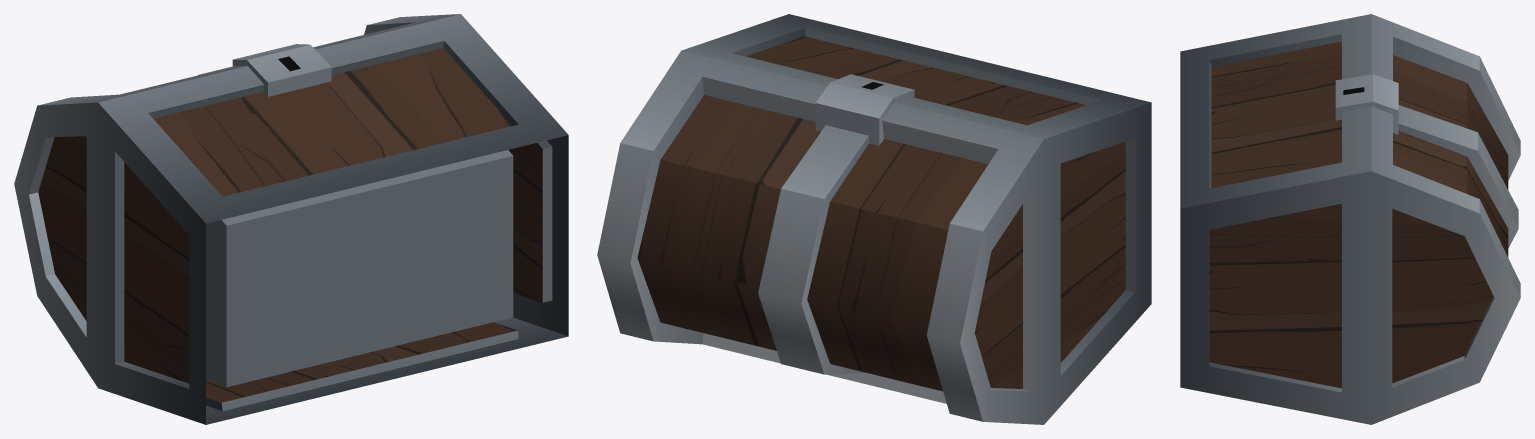
The model's file is Chest 04.FBX.
3 renders of one model, left to right at view 1: azimuth 30°, elevation 25°; view 2: azimuth 150°, elevation 25°; view 3: azimuth 270°, elevation 25°, orthographic. The views are drawn at different scales.
Parts seen in each view (by area): view 1: Chest 04, Chest 04 Cover; view 2: Chest 04 Cover, Chest 04; view 3: Chest 04, Chest 04 Cover.
Boxes of the visible parts, bbox=[...] form: Chest 04: bbox=[98, 14, 568, 424]; Chest 04 Cover: bbox=[14, 14, 459, 387]; Chest 04 Cover: bbox=[597, 50, 1043, 424]; Chest 04: bbox=[682, 14, 1151, 424]; Chest 04: bbox=[1180, 14, 1372, 424]; Chest 04 Cover: bbox=[1371, 14, 1520, 424].
Size of the model in its own units: 106 by 81.41 by 97.2.
